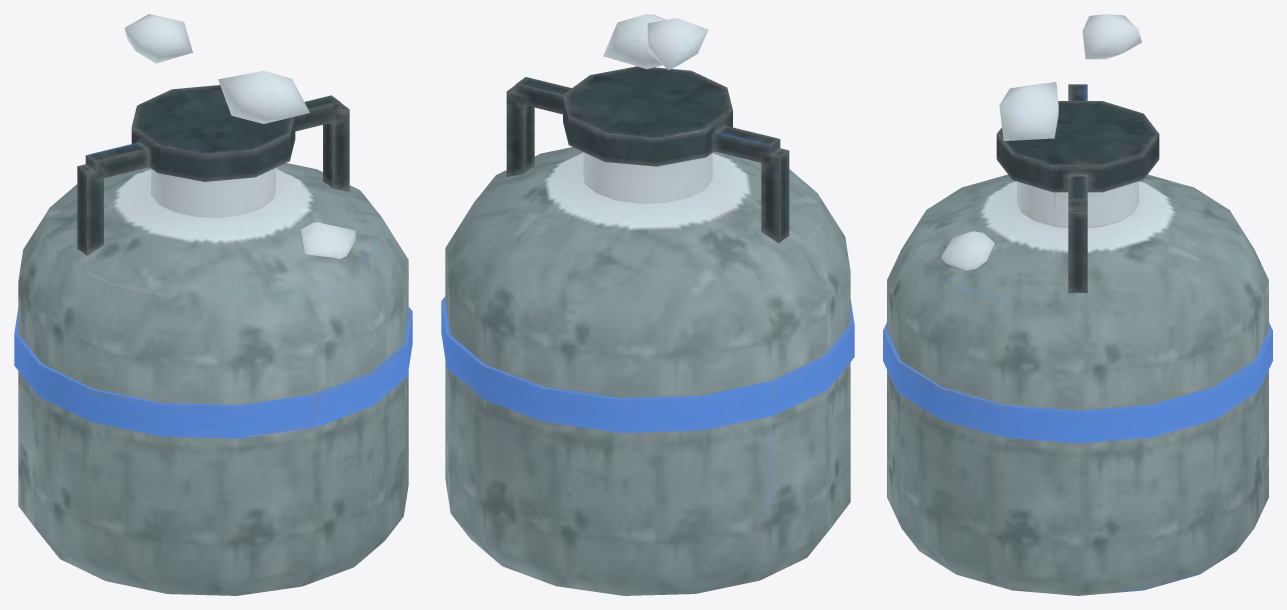
Rendered from cryogenic_fluids.glb.
The picture shows the model from 3 angles, left to right: view 1: azimuth 30°, elevation 25°; view 2: azimuth 150°, elevation 25°; view 3: azimuth 270°, elevation 25°; orthographic projection. The views are drawn at different scales.
Visible parts, largest first — view 1: te_res_cryogenic_fluids; view 2: te_res_cryogenic_fluids; view 3: te_res_cryogenic_fluids.
Boxes of the visible parts, <box> form: te_res_cryogenic_fluids: <box>14,14,412,595</box>; te_res_cryogenic_fluids: <box>441,14,854,595</box>; te_res_cryogenic_fluids: <box>883,14,1272,595</box>.
Bounding box in the file's own units: 0.408 × 0.5651 × 0.408.
1 material, 1 textured.
